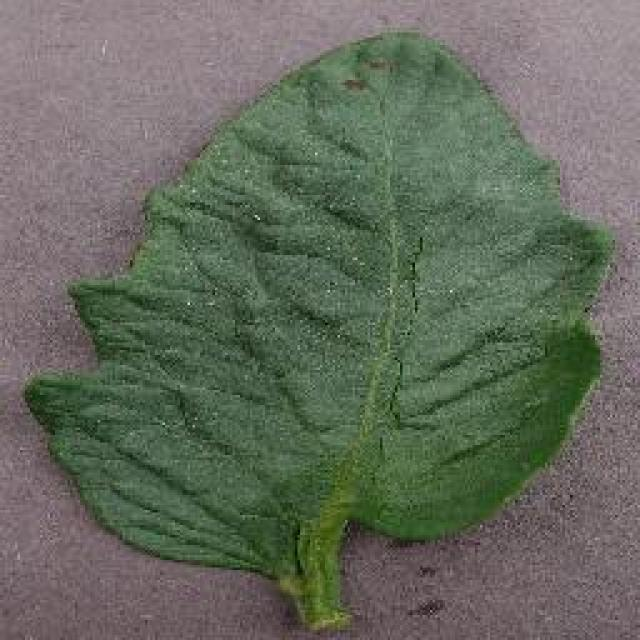Tomato bacterial spot leaf: (46, 38, 606, 612)
